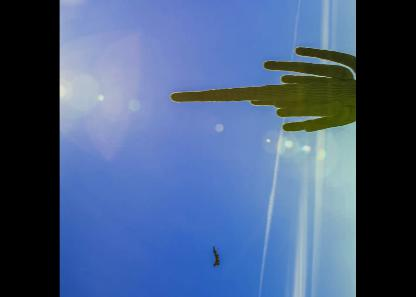F14: (212, 245, 218, 266)
